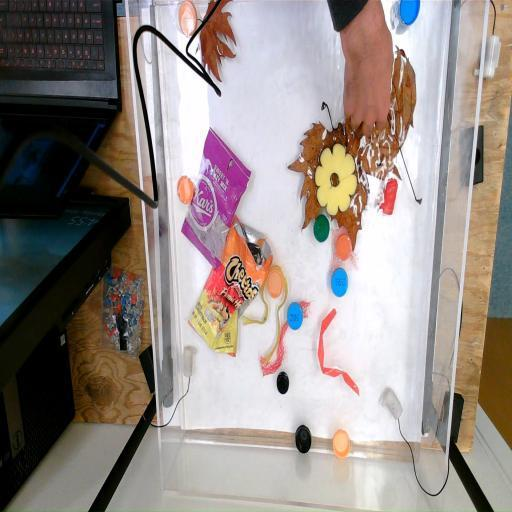Bottle Cap: (178, 0, 198, 38), (176, 176, 196, 206), (398, 0, 421, 26), (266, 268, 284, 300), (294, 424, 313, 454), (331, 267, 349, 298), (332, 431, 352, 458), (313, 213, 331, 243), (336, 232, 354, 261), (286, 302, 304, 330), (276, 371, 290, 396)
Cone Cap: (378, 174, 400, 216)
Leaf: (284, 100, 376, 254), (345, 44, 426, 214), (193, 0, 238, 83)
Netting: (260, 300, 311, 378), (330, 224, 359, 272)
Plastic Bag: (187, 211, 274, 360), (180, 123, 254, 273)
Plastic Strand: (238, 264, 290, 366), (318, 306, 360, 399)
Sponge: (314, 141, 360, 218)
